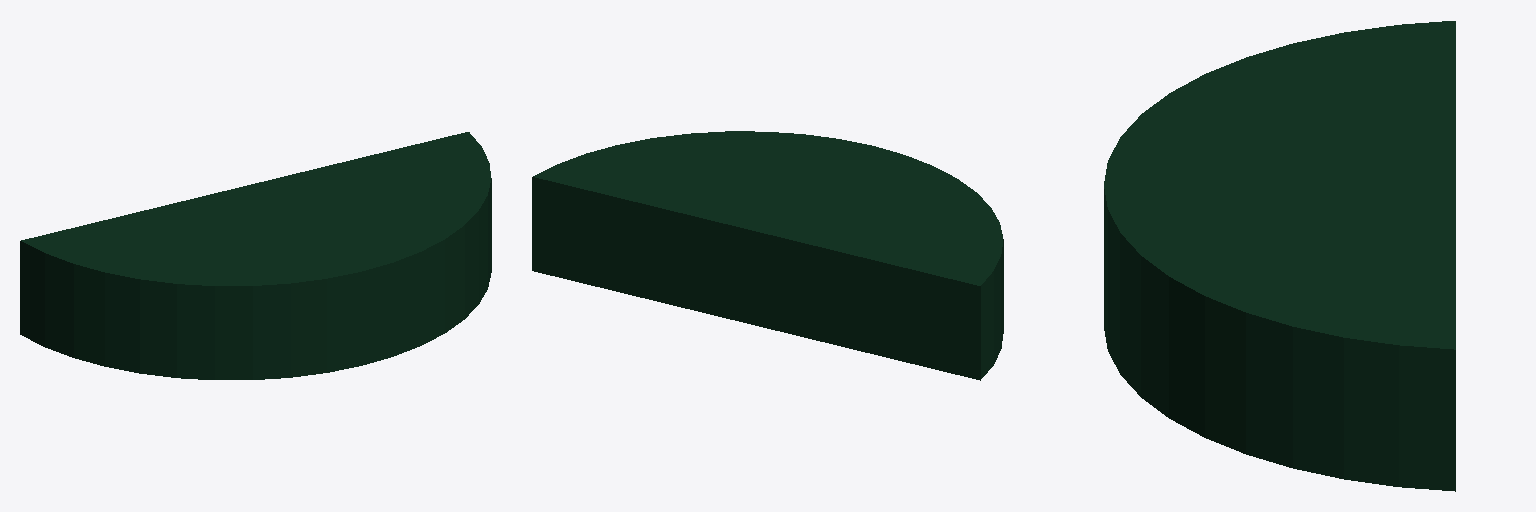
The robot description file, URDF, robot "screw":
<?xml version="1.0" ?>
<robot name="screw">
  <material name="Blue">
    <color rgba="0.093 0.23 0.16  1"/> 
  </material>
  <material name="Orange">
    <color rgba="1.0 0.423529411765 0.0392156862745 1.0"/>
  </material>
  <material name="Red">
  <color rgba="0.10 0.10 0.71 1"/>  
</material>

  <link name="half1">
  <contact>
      <lateral_friction value="1"/>
  </contact>
    <inertial>
      <origin rpy="0 0 1.57" xyz="0 0.506 0."/>
       <mass value=".0"/>
       <inertia ixx=".1" ixy="0" ixz="0" iyy="0" iyz="0" izz="0"/>
    </inertial>
    <visual>
      <origin rpy="0 0 1.57" xyz="0 0.506 0"/>
      <geometry>
				<mesh filename="meshes/half_screw.stl" scale="1 1 1"/>
      </geometry>
       <material name="Blue"/>
    </visual>
	
    <collision>
      <origin rpy="0 0 1.57" xyz="0 0.506 0"/>
      <geometry>
				<mesh filename="meshes/half_screw.stl" scale="1 1 1"/>
      </geometry>
       <material name="Blue"/>
    </collision>
  </link>
  
  
</robot>

--- Facts derived from the render (not from the file) ---
Views: 3 orthographic renders of the robot side by side, from view 1: azimuth 30°, elevation 25°; view 2: azimuth 150°, elevation 25°; view 3: azimuth 270°, elevation 25°.
Model screw with 1 links and 0 joints (none), rooted at half1, posed all joints at 0.
Links seen in each view (by area): view 1: half1; view 2: half1; view 3: half1.
Boxes of the visible links, bbox=[...] form: half1: bbox=[20, 132, 491, 379]; half1: bbox=[532, 131, 1003, 380]; half1: bbox=[1104, 21, 1455, 491].
Size in the robot's own frame: 0.0199 by 0.009 by 0.004 metres.
Meshes: 1 distinct files referenced, 1 mesh visuals loaded (1 binary STL).